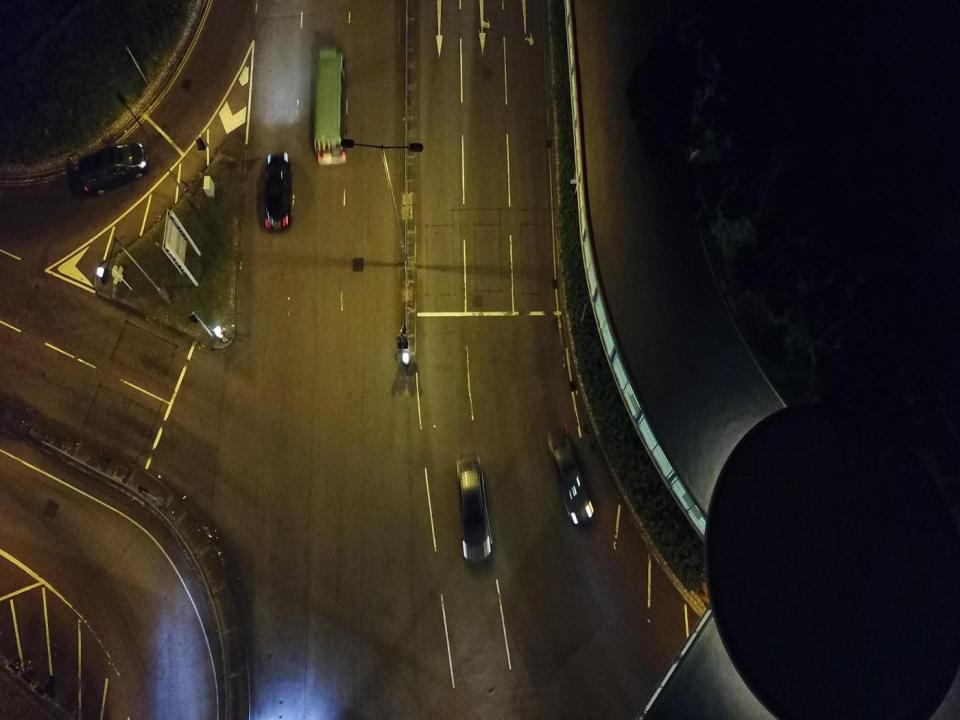bus: (313, 44, 349, 164)
car: (546, 425, 596, 528), (456, 455, 493, 564), (263, 150, 295, 232)
van: (77, 140, 151, 196)
